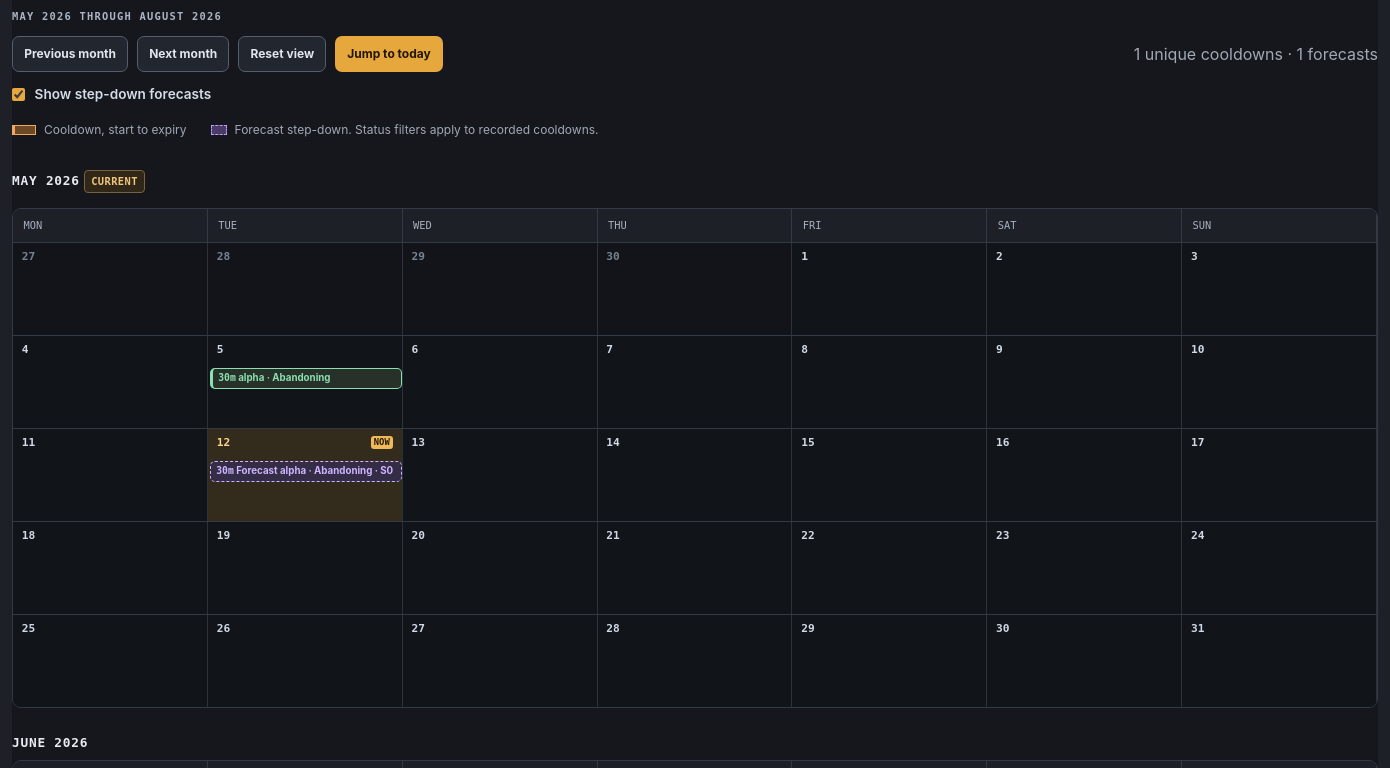
Test: names the full displayed range and hides only optional forecast markers
The width and height of the screenshot is (1390, 768).
Expected: the text "May 2026 through August 2026" is shown, top-left (12, 10), bottom-right (222, 22)
Expected: the button with aria-label "Forecast alpha Abandoning" is shown, top-left (210, 460), bottom-right (402, 482)
Click the checkbox labelled "Show step-down forecasts". click: {"x": 18, "y": 95}
box: top-left (12, 88), bottom-right (25, 101)
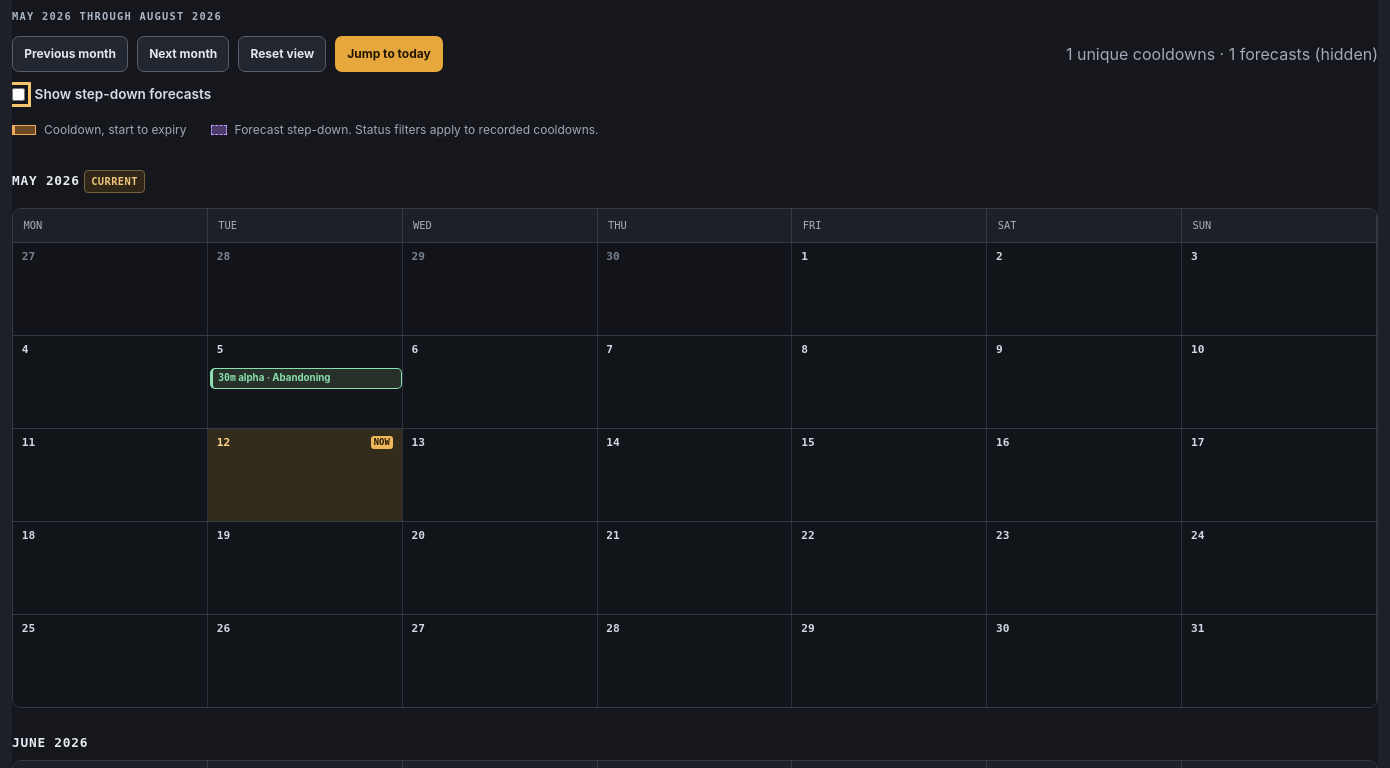
Expected: the button with aria-label "alpha Abandoning," is shown, top-left (210, 368), bottom-right (402, 389)
Click the checkbox labelled "Show step-down forecasts". click: {"x": 18, "y": 95}
box: top-left (12, 88), bottom-right (25, 101)
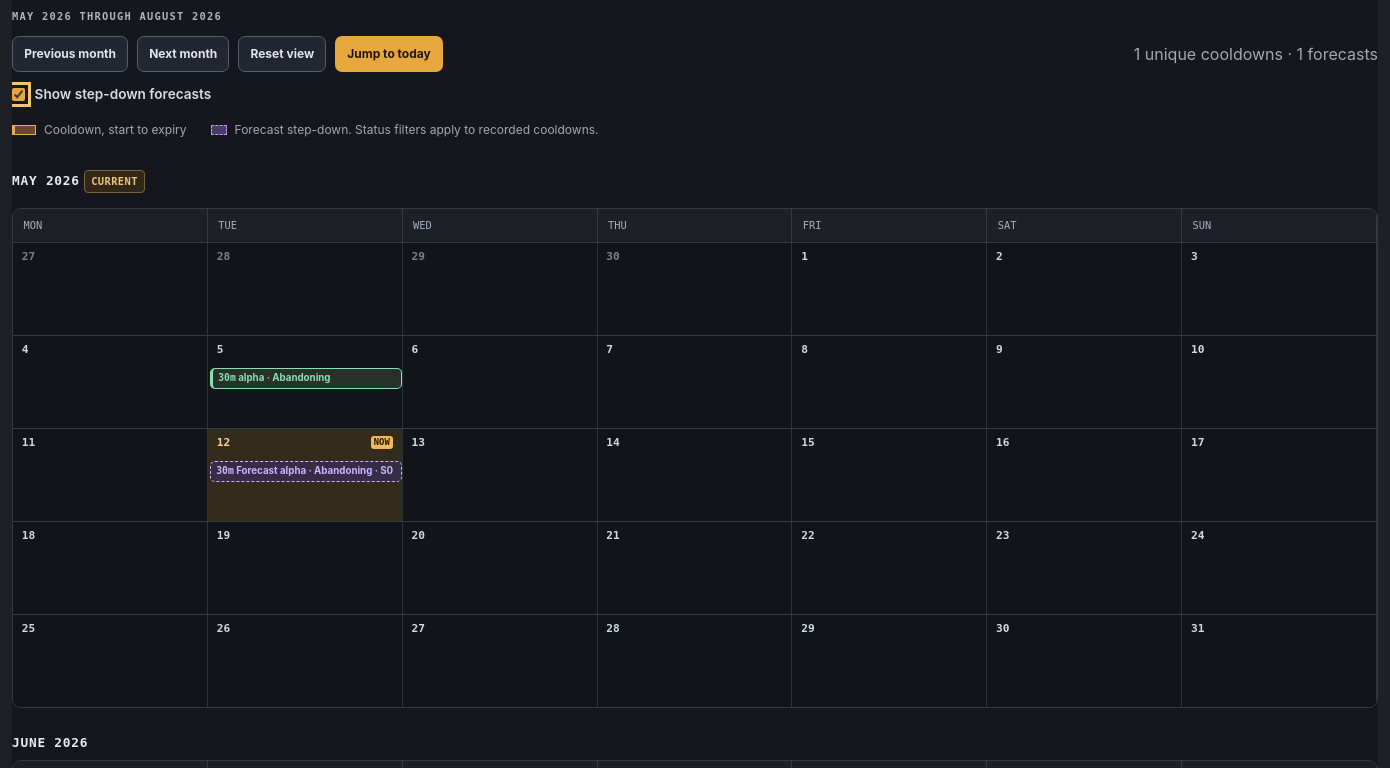
Result: the button with aria-label "Forecast alpha Abandoning" is shown at top-left (210, 460), bottom-right (402, 482)
